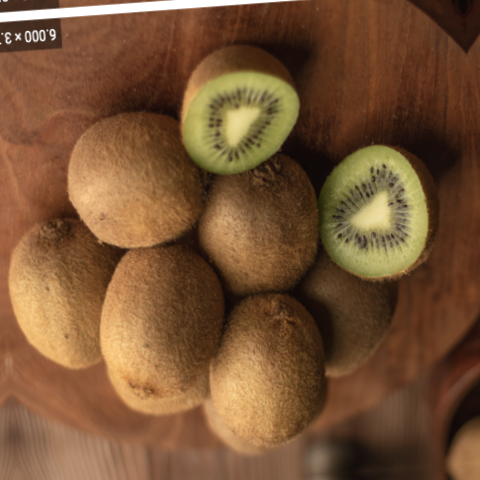kiwi: (49, 109, 229, 255), (90, 244, 247, 410), (189, 142, 341, 303), (202, 294, 344, 460), (1, 198, 129, 376)
